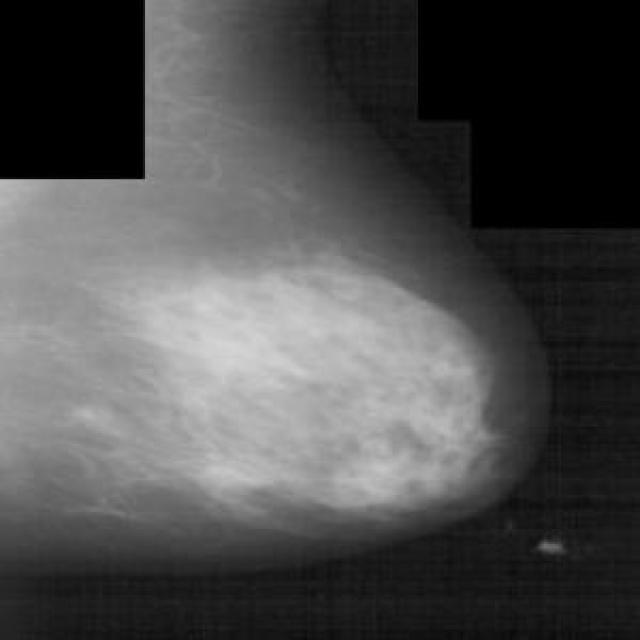tumor: (143, 279, 491, 516)
